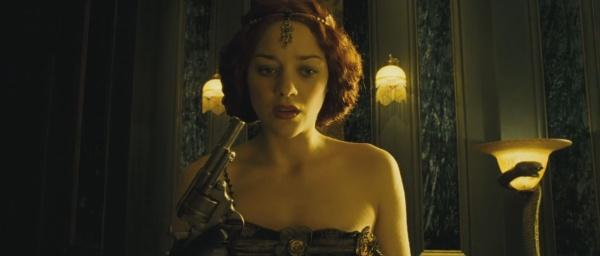Gun: (173, 113, 247, 244)
